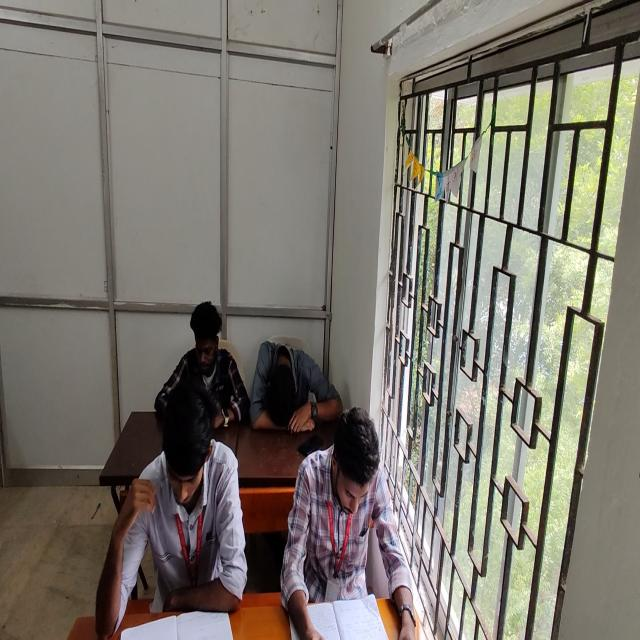reading: (97, 385, 245, 638), (280, 406, 401, 640)
sleeping: (250, 339, 340, 432)
using_mobile: (155, 299, 250, 430)
